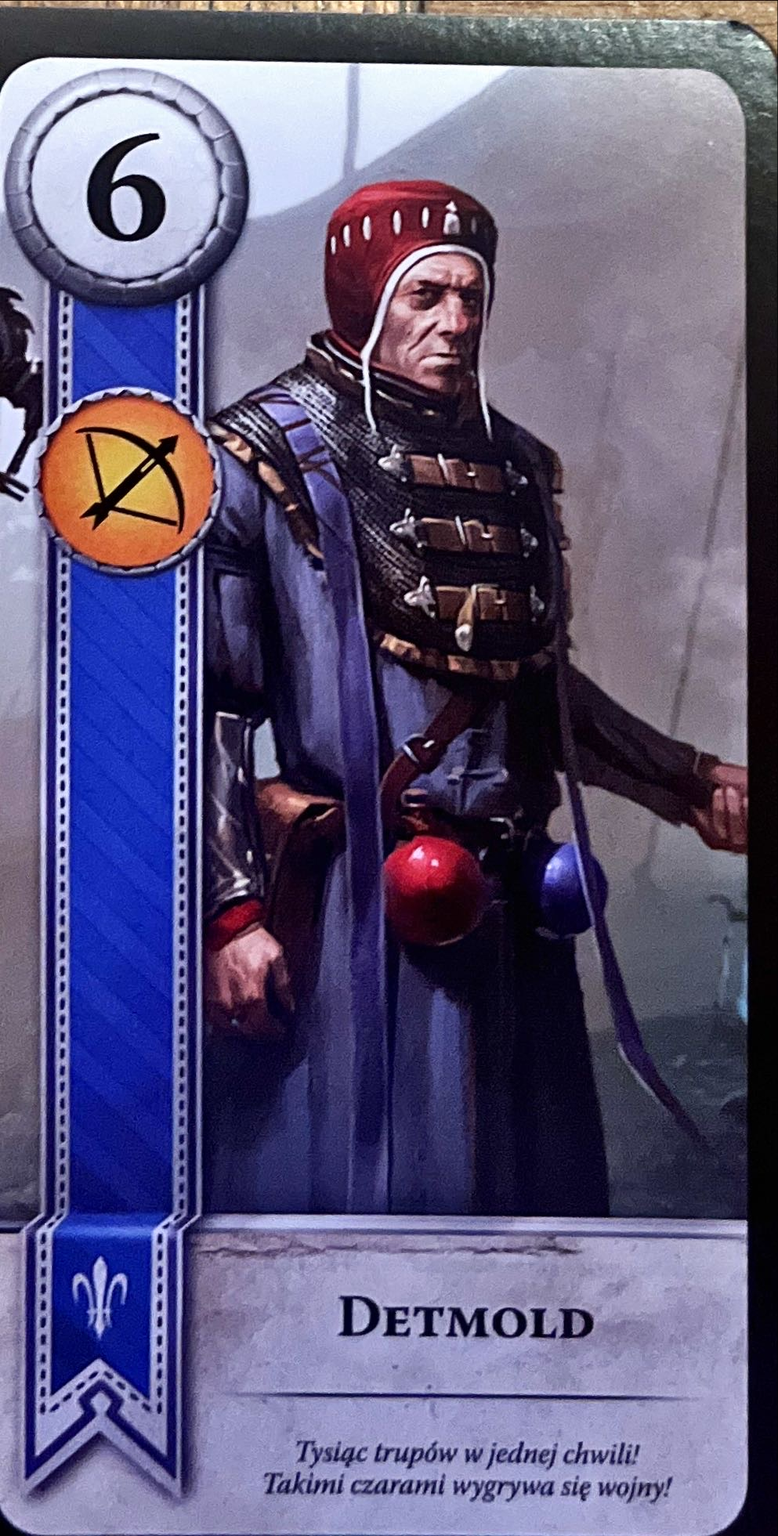6: (4, 65, 250, 307)
lucznik: (33, 384, 224, 577)
